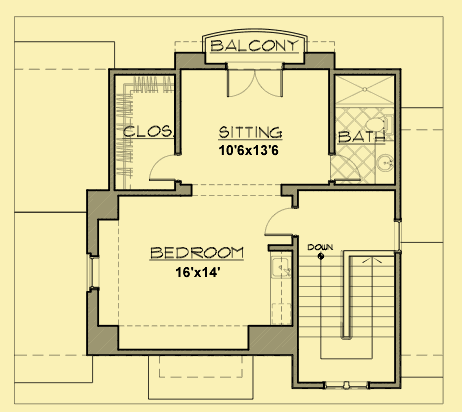door: (225, 61, 284, 99), (264, 208, 296, 238), (329, 153, 361, 183), (148, 153, 176, 183)
large_sink: (363, 112, 395, 136)
small_sink: (371, 138, 394, 183), (268, 253, 292, 280)
stairs: (299, 241, 396, 384)
window: (83, 253, 100, 294)
